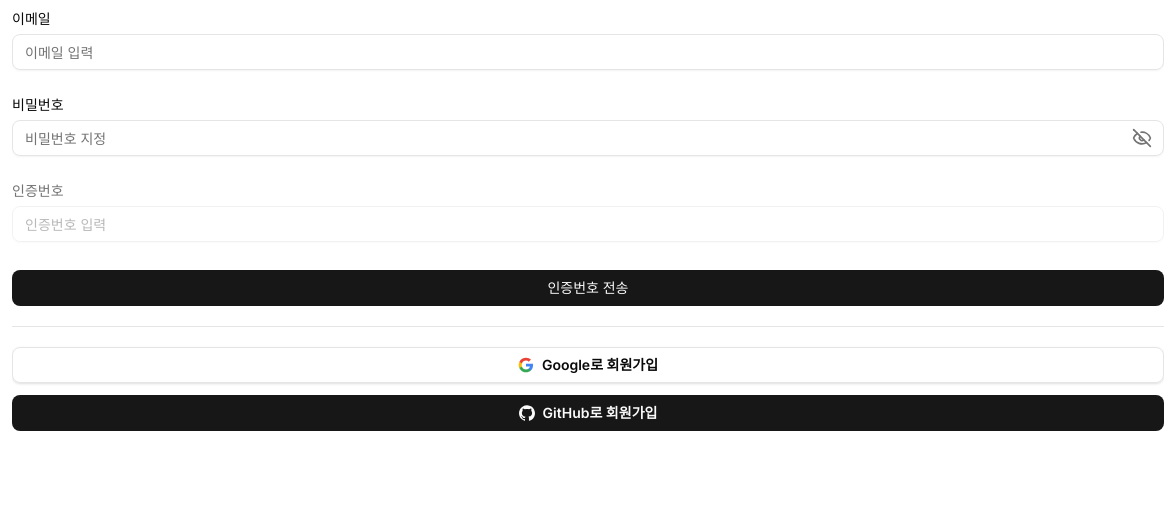
Test: RegisterStep1Form › 비밀번호 없이 제출하면 에러 메시지를 표시한다
In the field with placeholder "이메일 입력": {"x": 588, "y": 52} [12,34,1164,70], type "test@example.com"
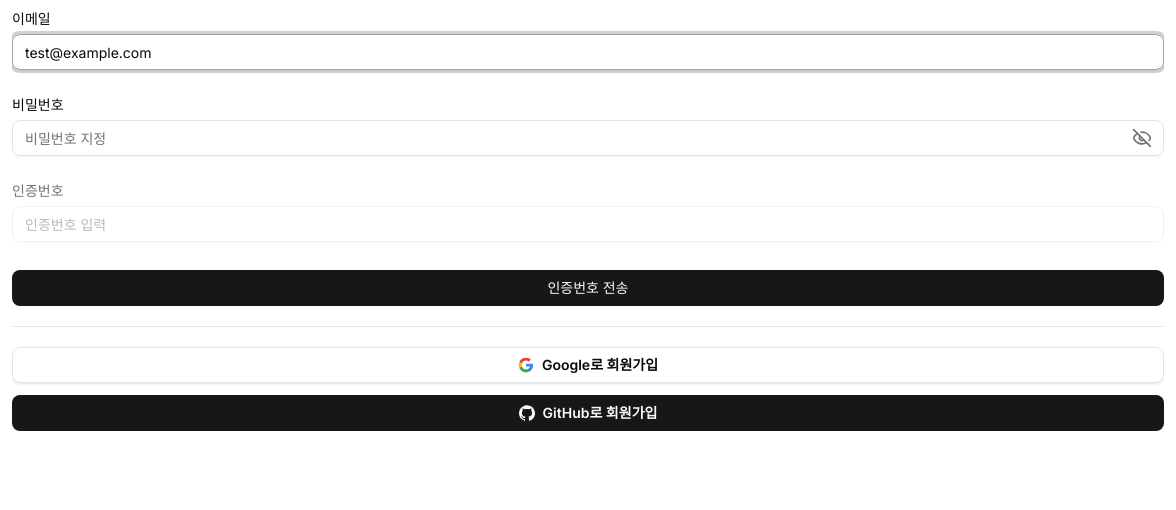
Click the button "인증번호 전송": {"x": 588, "y": 288} [12,270,1164,306]
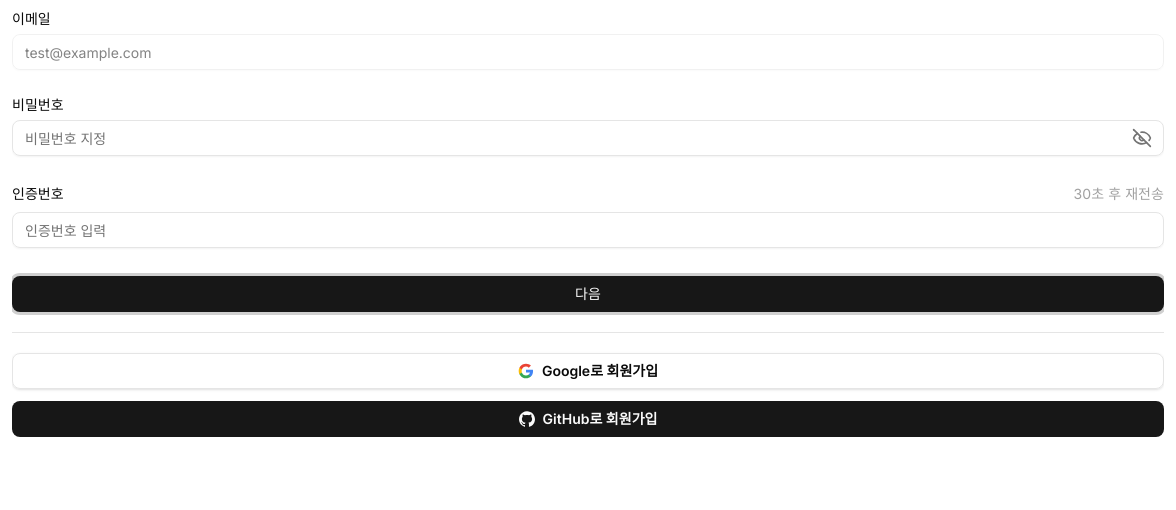
Click the button "다음": {"x": 588, "y": 294} [12,276,1164,312]
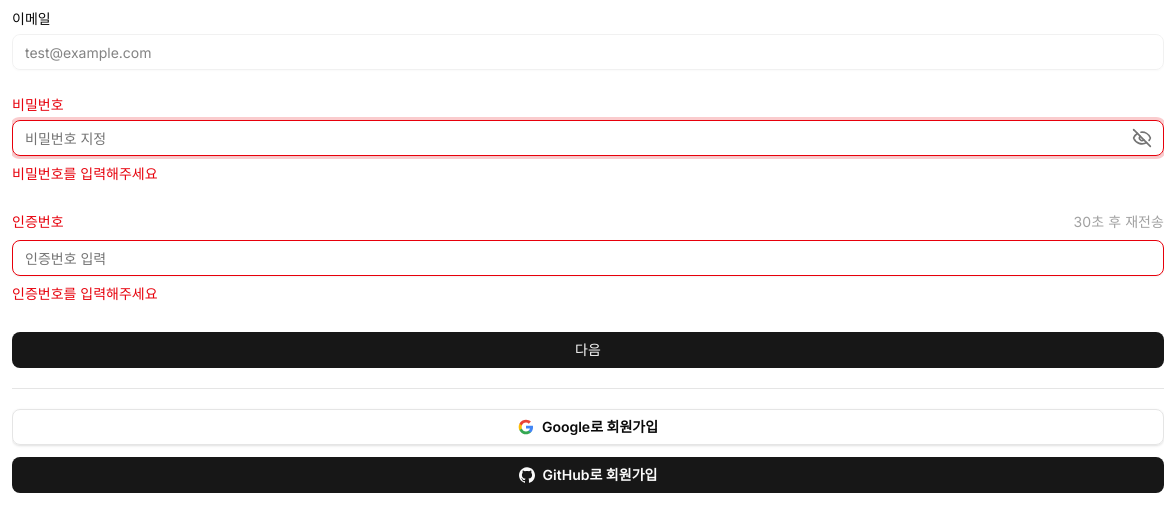
Check: the text "비밀번호를 입력해주세요" is shown, box [12,165,158,182]
